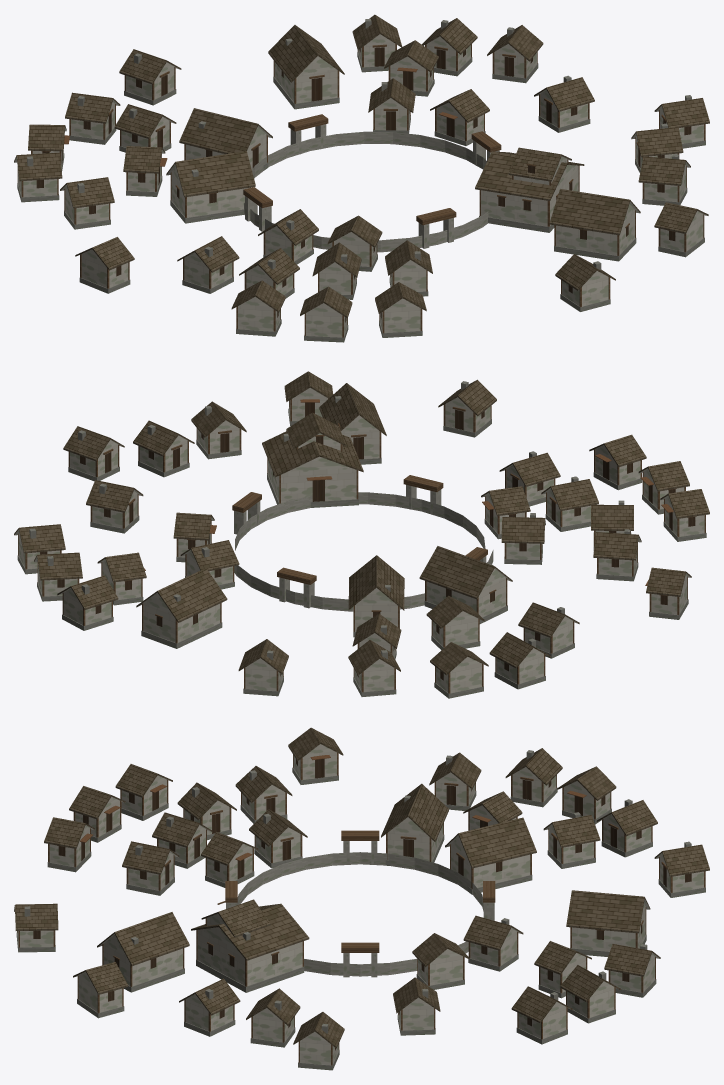
Rendered from sandy_ring_city_lod0.glb.
3 renders of one model, top to bottom at view 1: azimuth 30°, elevation 25°; view 2: azimuth 150°, elevation 25°; view 3: azimuth 270°, elevation 25°, orthographic.
Visible parts, largest first — view 1: ae_forest_neighbourhood_stone_lod0; view 2: ae_forest_neighbourhood_stone_lod0; view 3: ae_forest_neighbourhood_stone_lod0.
Boxes of the visible parts, bbox=[...] form: ae_forest_neighbourhood_stone_lod0: bbox=[14, 14, 709, 342]; ae_forest_neighbourhood_stone_lod0: bbox=[14, 371, 709, 698]; ae_forest_neighbourhood_stone_lod0: bbox=[14, 727, 709, 1070].
Size of the model in its own units: 1.89 by 0.1882 by 1.82.
Materials: 1 (1 with a texture image).
